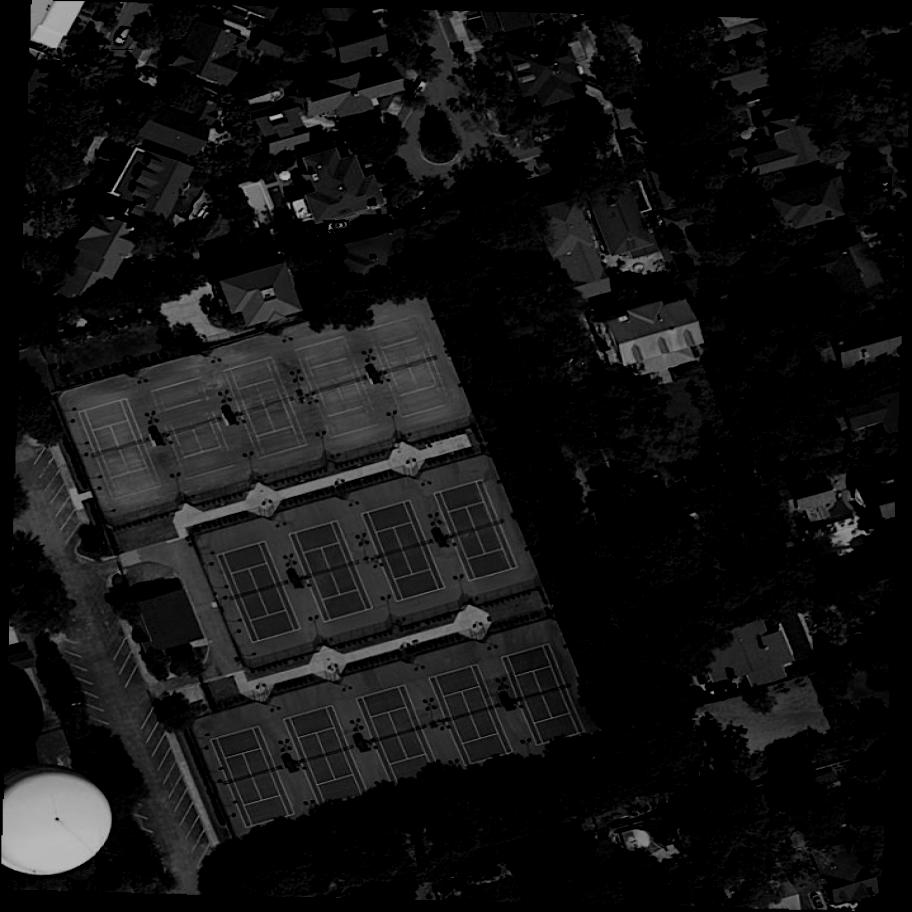small-vehicle: (111, 24, 134, 51), (876, 172, 893, 198), (324, 220, 350, 234), (39, 60, 62, 74)
